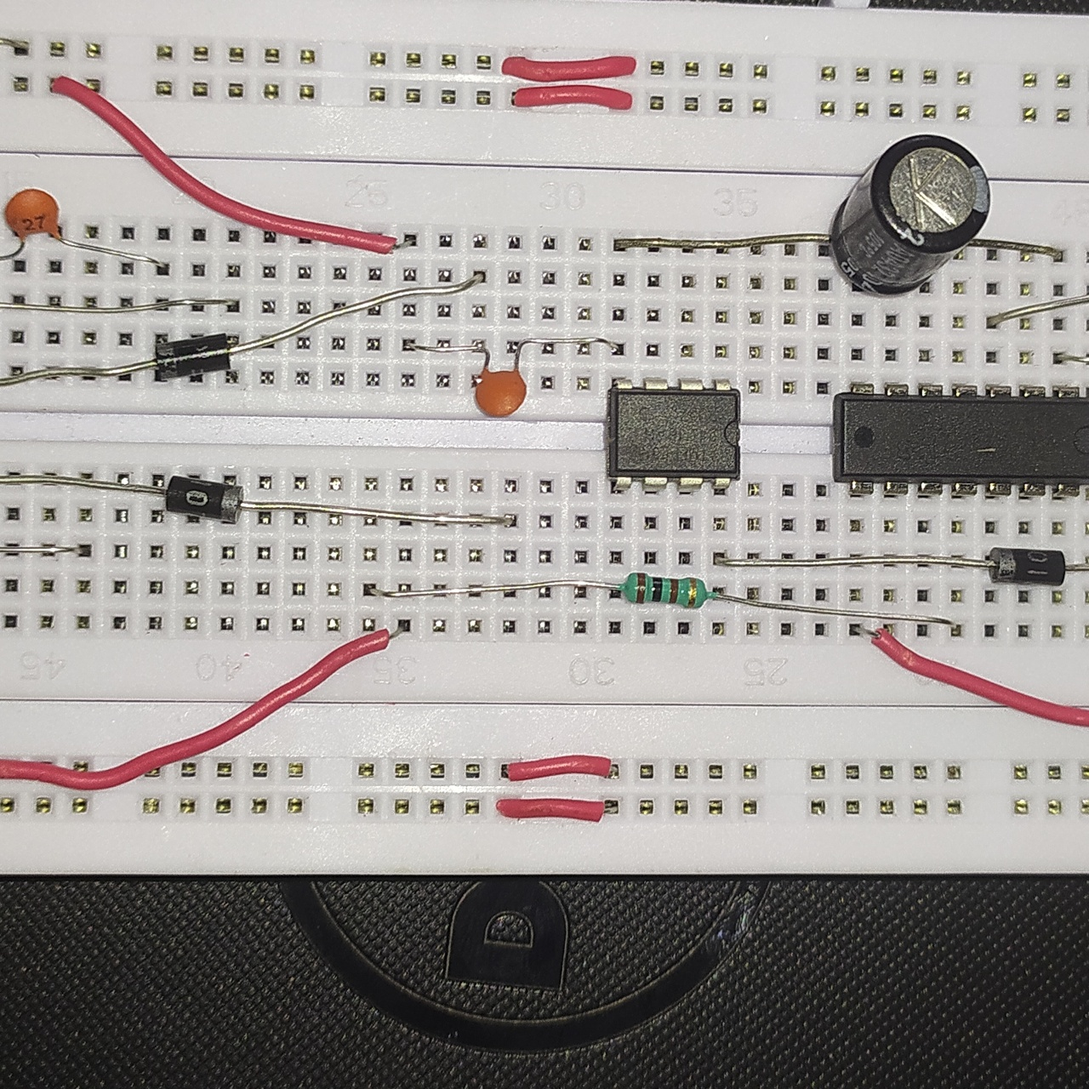capacitor: (820, 133, 994, 302), (474, 363, 534, 423), (1, 190, 65, 243)
resistor: (616, 570, 710, 617)
